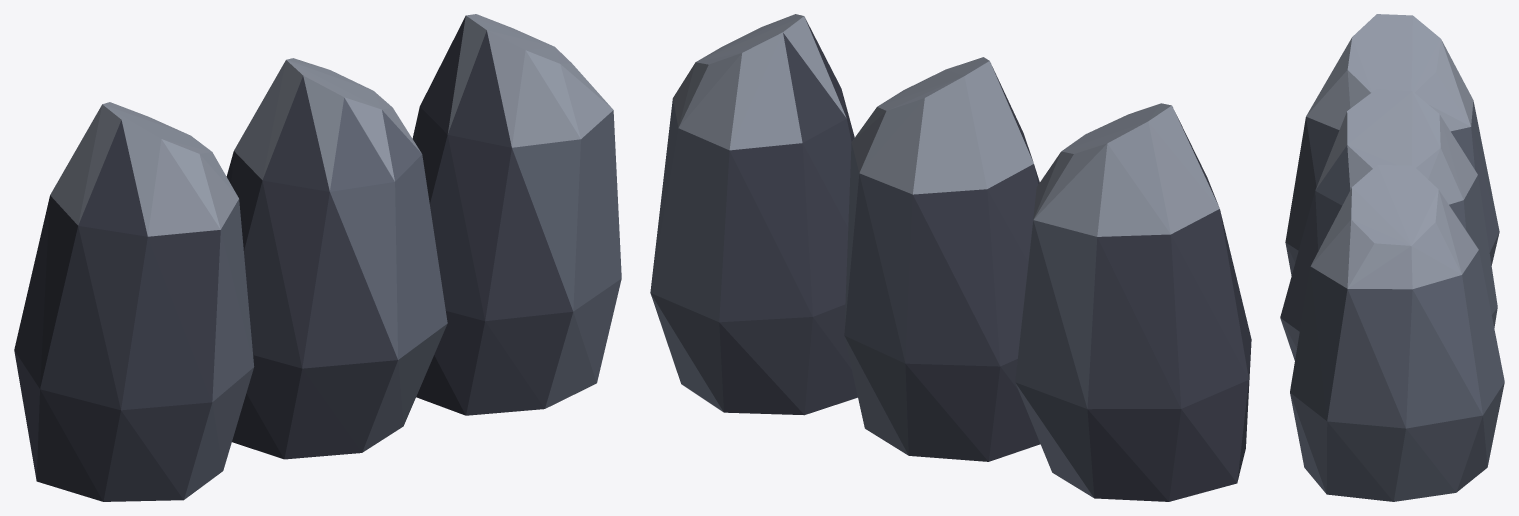
The model's file is TW_ROCK_SPLIT_MASS_B_LOD0.glb.
The picture shows the model from 3 angles, left to right: view 1: azimuth 30°, elevation 25°; view 2: azimuth 150°, elevation 25°; view 3: azimuth 270°, elevation 25°; orthographic projection. The views are drawn at different scales.
Visible parts, largest first — view 1: TW_ROCK_SPLIT_MASS_B_LOD0; view 2: TW_ROCK_SPLIT_MASS_B_LOD0; view 3: TW_ROCK_SPLIT_MASS_B_LOD0.
Part boxes in pixels (x1,y1,x2,y2): TW_ROCK_SPLIT_MASS_B_LOD0: [14, 14, 621, 501]; TW_ROCK_SPLIT_MASS_B_LOD0: [650, 14, 1251, 501]; TW_ROCK_SPLIT_MASS_B_LOD0: [1280, 14, 1504, 501].
Bounding box in the file's own units: 1.96 × 1.16 × 0.7963.
Materials: 1 (1 with a texture image).
